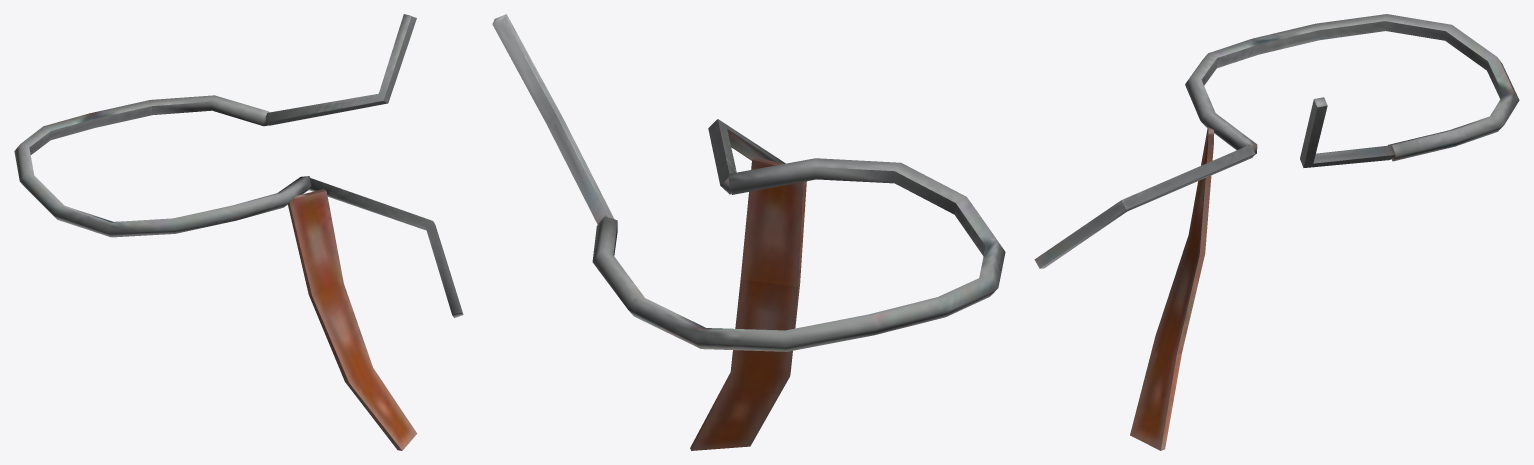
Rendered from pen_fence_tie_cut.glb.
3 views of the same model, side by side, from view 1: azimuth 30°, elevation 25°; view 2: azimuth 150°, elevation 25°; view 3: azimuth 270°, elevation 25° (orthographic). The views are drawn at different scales.
Parts seen in each view (by area): view 1: pen_fence_tie_cut; view 2: pen_fence_tie_cut; view 3: pen_fence_tie_cut.
Part boxes in pixels (x1,y1,x2,y2): pen_fence_tie_cut: (14, 14, 463, 450); pen_fence_tie_cut: (492, 14, 1005, 450); pen_fence_tie_cut: (1034, 14, 1519, 450).
Size of the model in its own units: 0.3287 by 0.3019 by 0.3435.
1 material, 1 textured.
